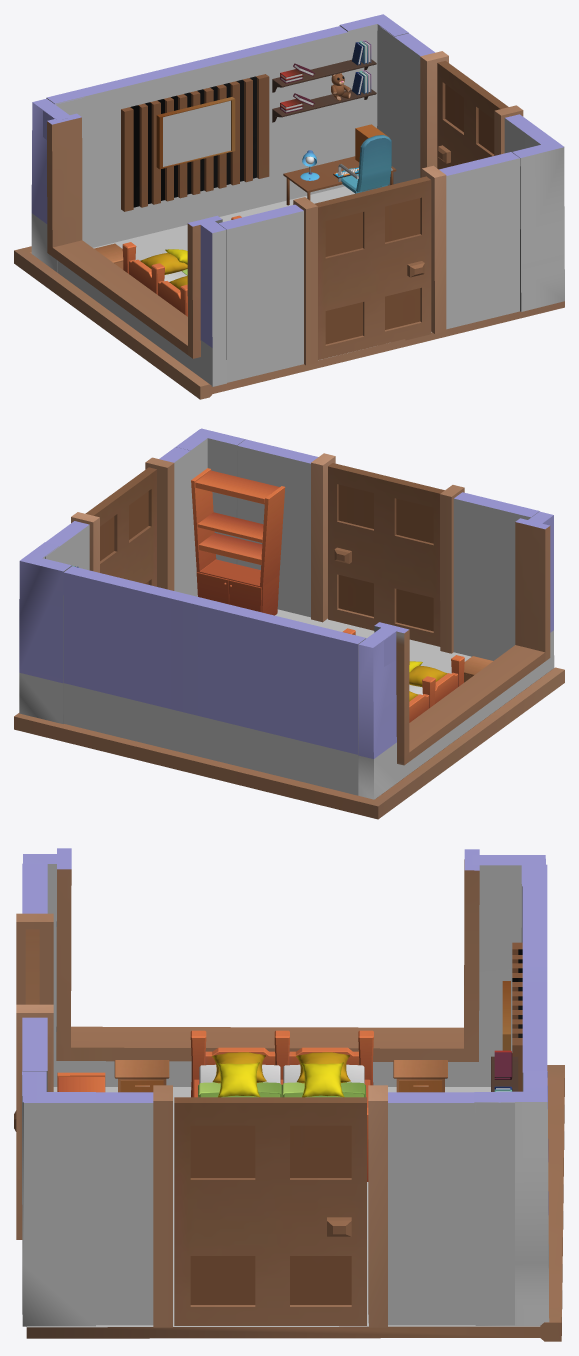
Rendered from DORMIDORIO.fbx.
3 views of the same model, one above another, from view 1: azimuth 30°, elevation 25°; view 2: azimuth 150°, elevation 25°; view 3: azimuth 270°, elevation 25° (orthographic). The views are drawn at different scales.
Visible parts, largest first — view 1: paret_puerta57, paret_basica30, puerta36, paret_con_ventana_grande28, decor_paret3, suelo19, paret_puerta56, paret_esquina_91, puerta39, mesa_ordena3, paret_esquina44, paret_esquina_90 (+3 smaller); view 2: paret_basica30, paret_puerta57, puerta36, paret_con_ventana_grande28, suelo19, mueble6, paret_puerta56, paret_esquina_90, paret_esquina44, puerta39, paret_esquina_91, cama3; view 3: paret_puerta56, puerta39, paret_con_ventana_grande28, suelo19, cama3, paret_esquina_90, paret_puerta57, paret_esquina_91, paret_basica30, paret_esquina44, decor_paret3, mesita9 (+4 smaller).
Part boxes in pixels (bbox=[...]): paret_puerta57: bbox=[218, 152, 519, 382]; paret_basica30: bbox=[46, 26, 348, 247]; puerta36: bbox=[314, 176, 431, 359]; paret_con_ventana_grande28: bbox=[43, 110, 226, 386]; decor_paret3: bbox=[121, 74, 269, 211]; suelo19: bbox=[14, 186, 564, 399]; paret_puerta56: bbox=[380, 26, 563, 185]; paret_esquina_91: bbox=[512, 128, 564, 311]; puerta39: bbox=[437, 61, 508, 169]; mesa_ordena3: bbox=[283, 124, 396, 205]; paret_esquina44: bbox=[31, 97, 84, 272]; paret_esquina_90: bbox=[339, 14, 408, 157]; paret_basica30: bbox=[63, 566, 366, 795]; paret_puerta57: bbox=[237, 439, 539, 660]; puerta36: bbox=[328, 463, 444, 646]; paret_con_ventana_grande28: bbox=[374, 511, 554, 780]; suelo19: bbox=[14, 609, 564, 819]; mueble6: bbox=[191, 468, 285, 615]; paret_puerta56: bbox=[45, 429, 207, 596]; paret_esquina_90: bbox=[19, 542, 71, 723]; paret_esquina44: bbox=[358, 626, 399, 799]; puerta39: bbox=[85, 467, 156, 586]; paret_esquina_91: bbox=[176, 428, 245, 564]; cama3: bbox=[343, 628, 464, 722]; paret_puerta56: bbox=[24, 1085, 514, 1327]; puerta39: bbox=[174, 1097, 366, 1325]; paret_con_ventana_grande28: bbox=[23, 848, 512, 1086]; suelo19: bbox=[26, 1065, 564, 1341]; cama3: bbox=[190, 1030, 373, 1181]; paret_esquina_90: bbox=[474, 1071, 549, 1325]; paret_puerta57: bbox=[16, 863, 53, 1239]; paret_esquina_91: bbox=[22, 1071, 95, 1326]; paret_basica30: bbox=[522, 864, 547, 1091]; paret_esquina44: bbox=[472, 855, 545, 971]; decor_paret3: bbox=[502, 942, 522, 1091]; mesita9: bbox=[393, 1060, 447, 1092].
Size of the model in its own units: 836 by 361 by 742.
